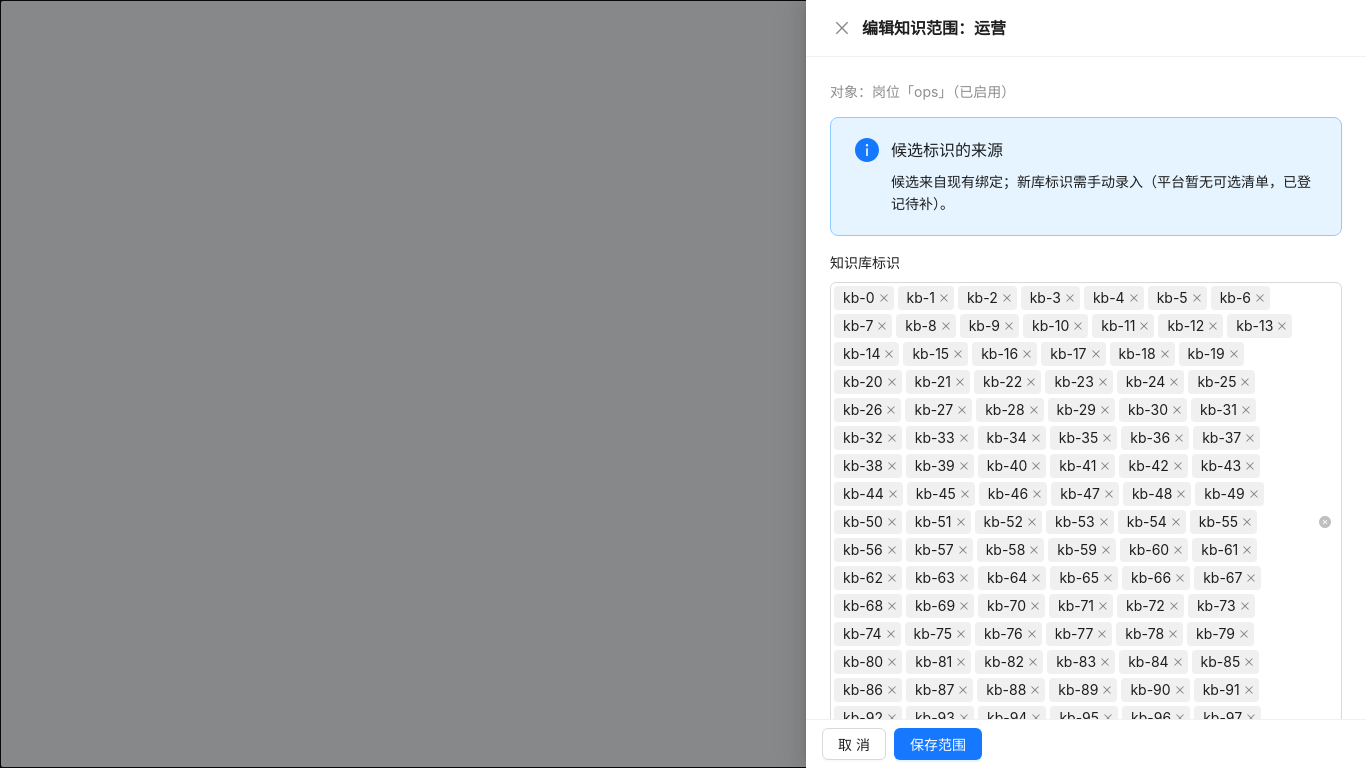
ScopeDrawer（编辑知识范围） › 超过 100 项：被前端拦下（服务端 max_length=100），不发出提交
Click the button "保存范围" at (938, 744), box [894,728,982,760]
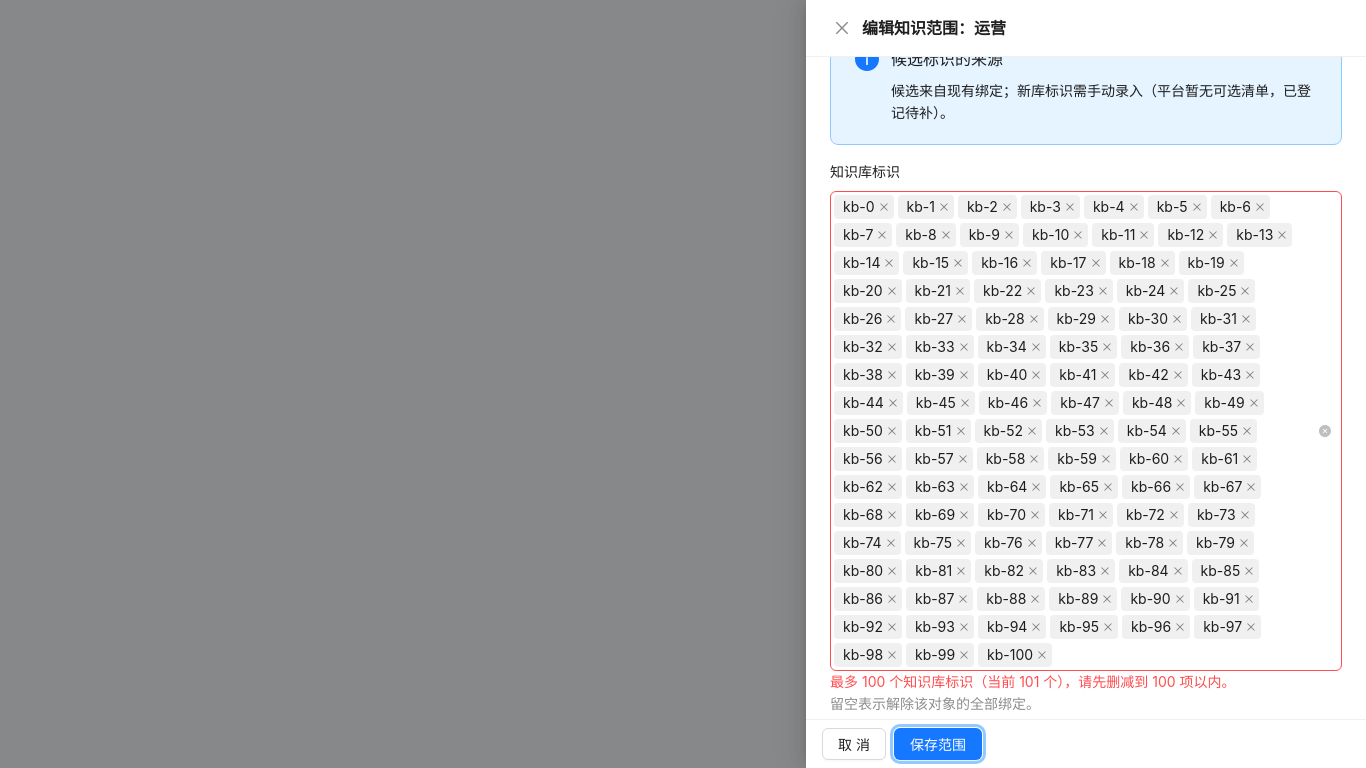
Result: the text "最多 100 个知识库标识（当前 101 个），请先删减到 100 项以内。" is shown at [830,673,1236,690]
